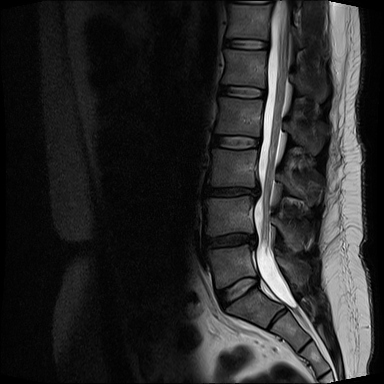Lumbar Disc Bulge (LDB): (214, 272, 263, 313), (202, 224, 261, 255), (204, 180, 267, 202)
Normal IVD: (207, 131, 264, 153), (211, 82, 269, 101), (219, 35, 273, 52)
Spinal Stenosis (SS): (245, 179, 265, 205), (244, 226, 261, 251)
Spondylolisthesis: (196, 211, 268, 271), (205, 264, 275, 322)
